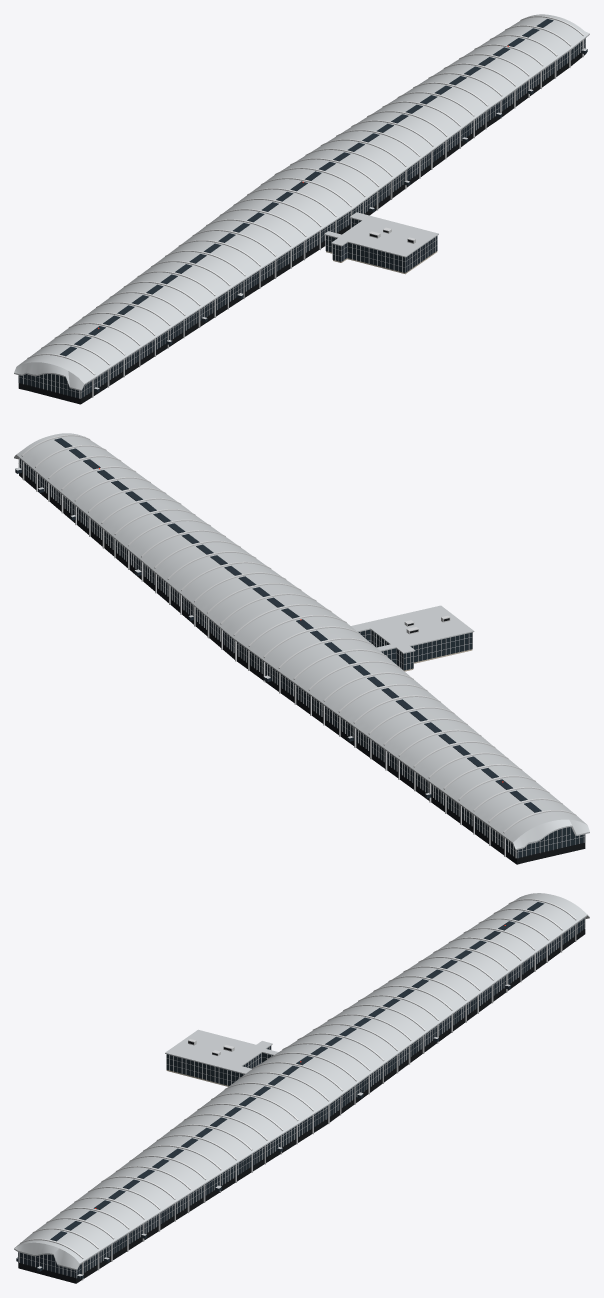
File: OMDB_concourse_b.glb
3 renders of one model, top to bottom at view 1: azimuth 90°, elevation 25°; view 2: azimuth 150°, elevation 25°; view 3: azimuth 270°, elevation 25°, orthographic. The views are drawn at different scales.
Parts seen in each view (by area): view 1: ConcourseB_Building, ConcourseB_Structure, ConcourseB_Annex, ConcourseB_Skylights; view 2: ConcourseB_Building, ConcourseB_Structure, ConcourseB_Annex, ConcourseB_Skylights; view 3: ConcourseB_Building, ConcourseB_Structure, ConcourseB_Annex, ConcourseB_Skylights.
Part boxes in pixels (bbox=[...]): ConcourseB_Building: bbox=[14, 14, 589, 404]; ConcourseB_Structure: bbox=[18, 15, 587, 398]; ConcourseB_Annex: bbox=[324, 212, 438, 274]; ConcourseB_Skylights: bbox=[60, 19, 553, 356]; ConcourseB_Building: bbox=[14, 433, 589, 864]; ConcourseB_Structure: bbox=[15, 434, 585, 858]; ConcourseB_Annex: bbox=[351, 605, 474, 671]; ConcourseB_Skylights: bbox=[54, 438, 541, 812]; ConcourseB_Building: bbox=[14, 893, 589, 1283]; ConcourseB_Structure: bbox=[16, 898, 585, 1280]; ConcourseB_Annex: bbox=[165, 1029, 278, 1086]; ConcourseB_Skylights: bbox=[50, 902, 544, 1241].
Size of what is drawn, in the model's own units: 822 by 41.63 by 542.
